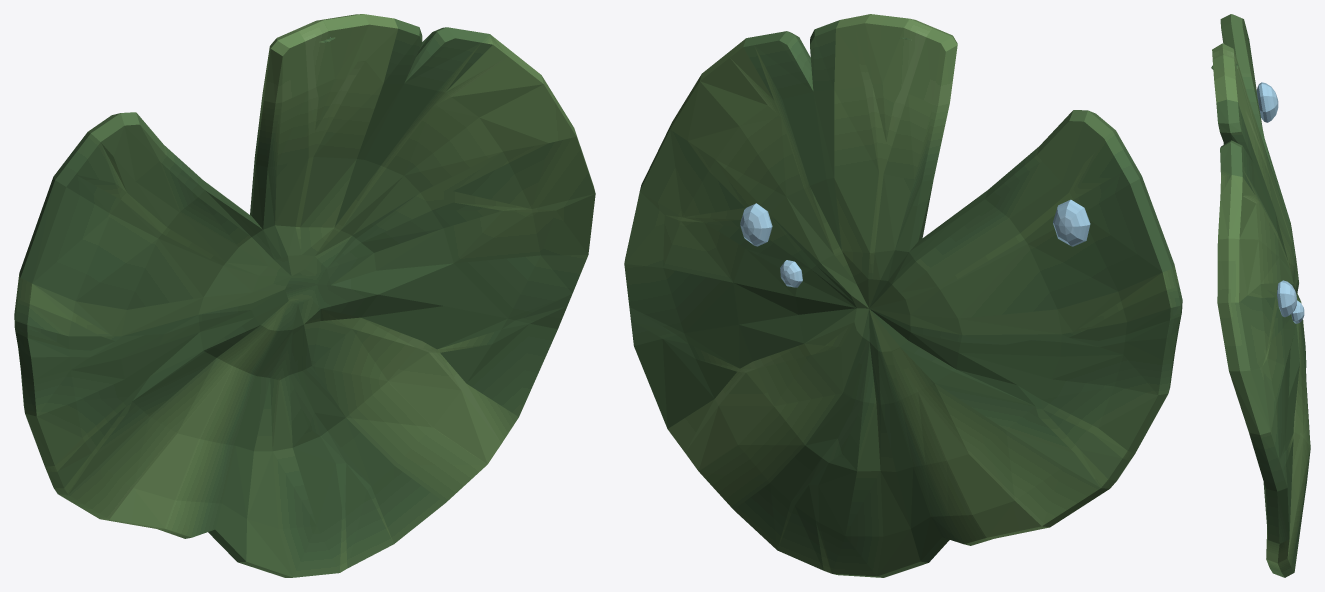
File: CharSkyKid_Prop_LilyUmbrella.glb
3 renders of one model, left to right at view 1: azimuth 30°, elevation 25°; view 2: azimuth 150°, elevation 25°; view 3: azimuth 270°, elevation 25°, orthographic. The views are drawn at different scales.
Parts seen in each view (by area): view 1: CharSkyKid_Prop_LilyUmbrella; view 2: CharSkyKid_Prop_LilyUmbrella; view 3: CharSkyKid_Prop_LilyUmbrella.
Boxes of the visible parts, x1,y1,x2,y2 form: CharSkyKid_Prop_LilyUmbrella: (14, 14, 595, 577); CharSkyKid_Prop_LilyUmbrella: (624, 14, 1182, 577); CharSkyKid_Prop_LilyUmbrella: (1211, 14, 1310, 577).
Bounding box in the file's own units: 5.08 × 4.86 × 0.8915.
1 material, 1 textured.
